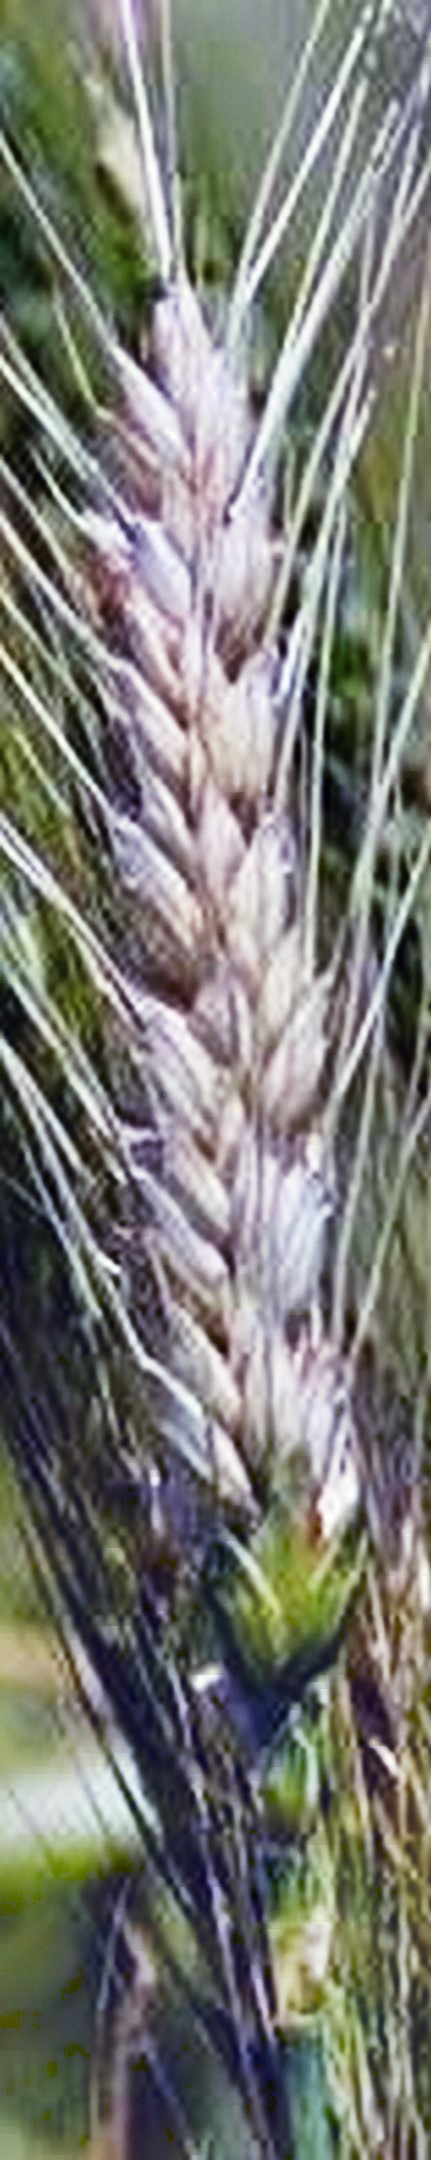Wheat scab: (65, 273, 423, 1712)
